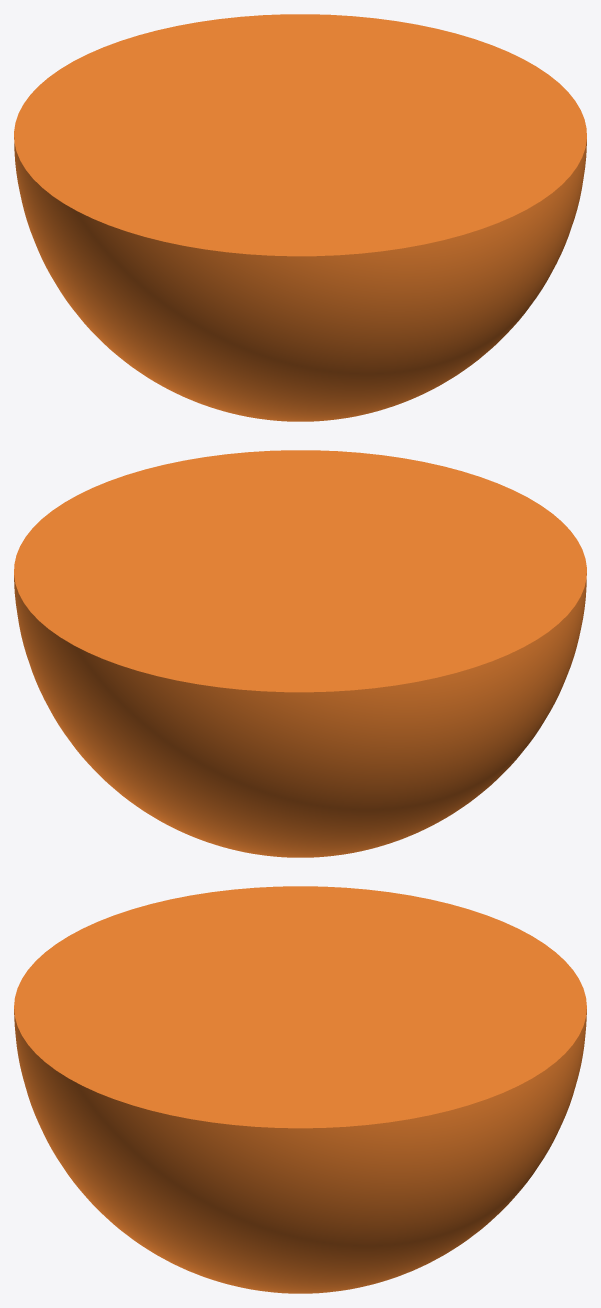
File: half_sphere.glb
3 views of the same model, one above another, from view 1: azimuth 30°, elevation 25°; view 2: azimuth 150°, elevation 25°; view 3: azimuth 270°, elevation 25° (orthographic).
Parts seen in each view (by area): view 1: mesh_id34; view 2: mesh_id34; view 3: mesh_id34.
Boxes of the visible parts, x1,y1,x2,y2 form: mesh_id34: (14,14,586,421); mesh_id34: (14,450,586,857); mesh_id34: (14,886,586,1293).
Size of the model in its own units: 0.2 by 0.0999 by 0.2.
1 material, 1 textured.
